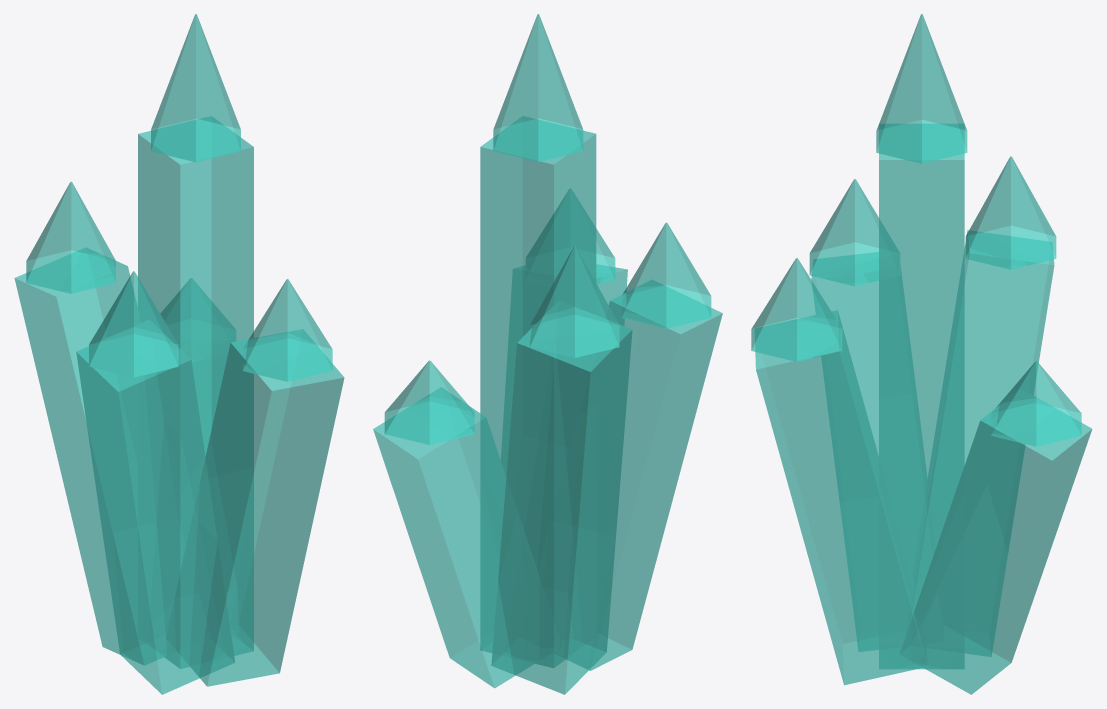
File: crystal_m.fbx
3 views of the same model, side by side, from view 1: azimuth 30°, elevation 25°; view 2: azimuth 150°, elevation 25°; view 3: azimuth 270°, elevation 25° (orthographic).
Visible parts, largest first — view 1: crystal_m; view 2: crystal_m; view 3: crystal_m.
Part boxes in pixels (bbox=[...]): crystal_m: bbox=[14, 14, 344, 694]; crystal_m: bbox=[373, 14, 722, 694]; crystal_m: bbox=[751, 14, 1092, 694].
Size of the model in its own units: 590 by 1503 by 715.
